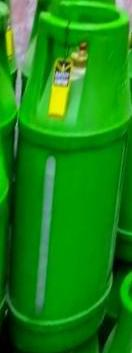cylinder: (1, 1, 132, 353)
